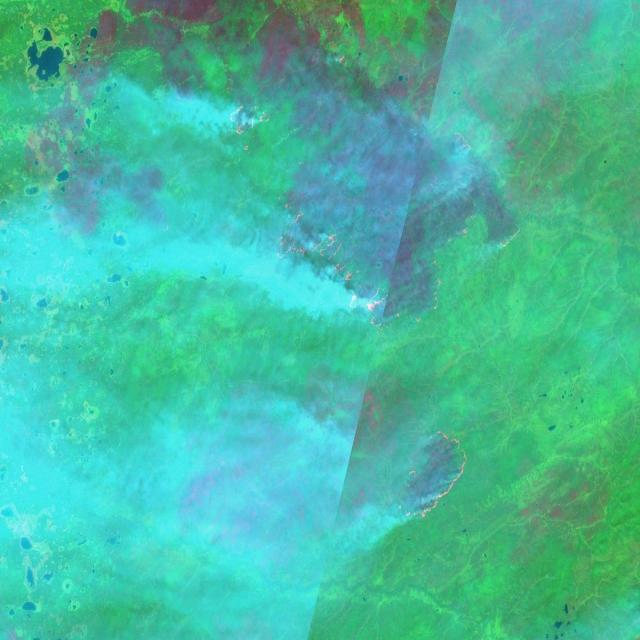fire: (275, 103, 523, 322), (396, 422, 470, 520), (336, 49, 351, 70)
